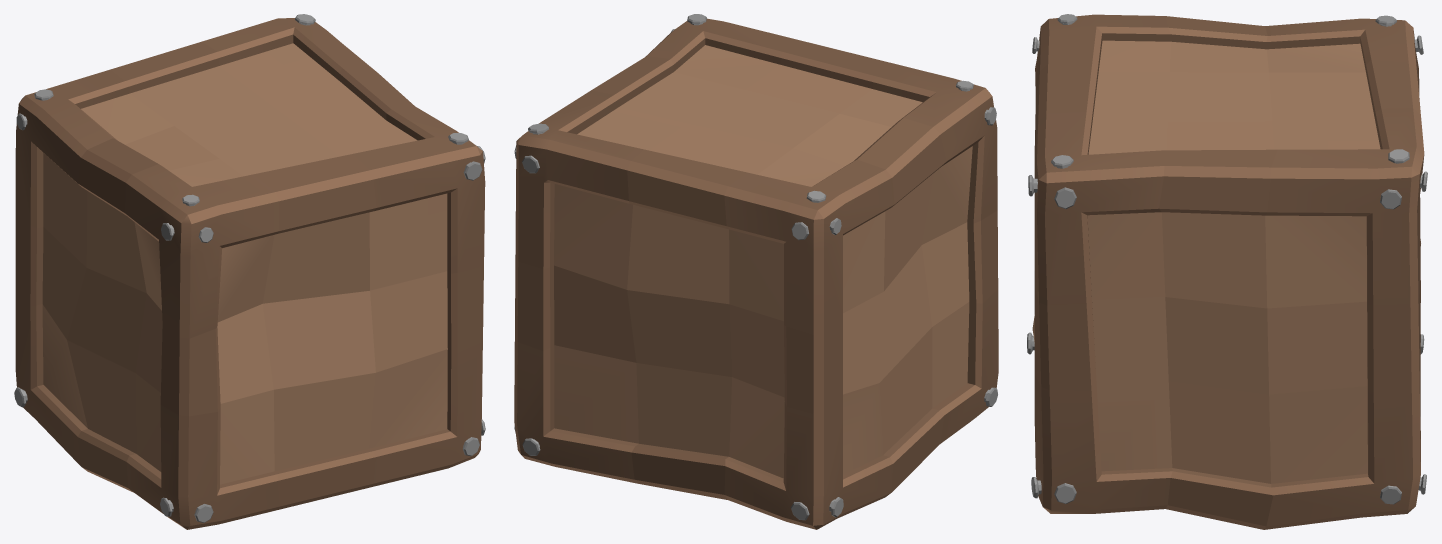
The model's file is Crate1.fbx.
3 views of the same model, side by side, from view 1: azimuth 30°, elevation 25°; view 2: azimuth 150°, elevation 25°; view 3: azimuth 270°, elevation 25° (orthographic). The views are drawn at different scales.
Visible parts, largest first — view 1: Crate; view 2: Crate; view 3: Crate.
Part boxes in pixels (<box>): Crate: <box>14,14,485,529</box>; Crate: <box>514,14,998,529</box>; Crate: <box>1027,14,1427,529</box>.
Size of the model in its own units: 71.1 by 72.92 by 71.11.
Materials: 1 (1 with a texture image).
